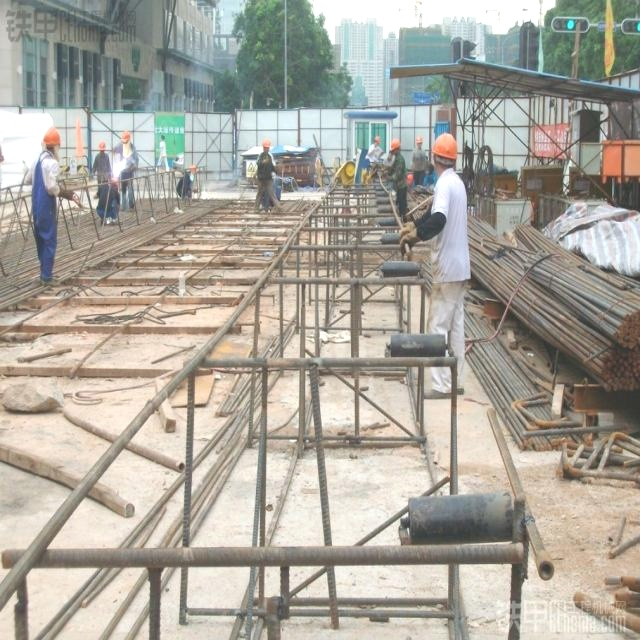Con_Casco: (432, 133, 458, 172), (42, 127, 63, 156)
Sin_Chaleco: (432, 173, 471, 287), (30, 155, 61, 220)
